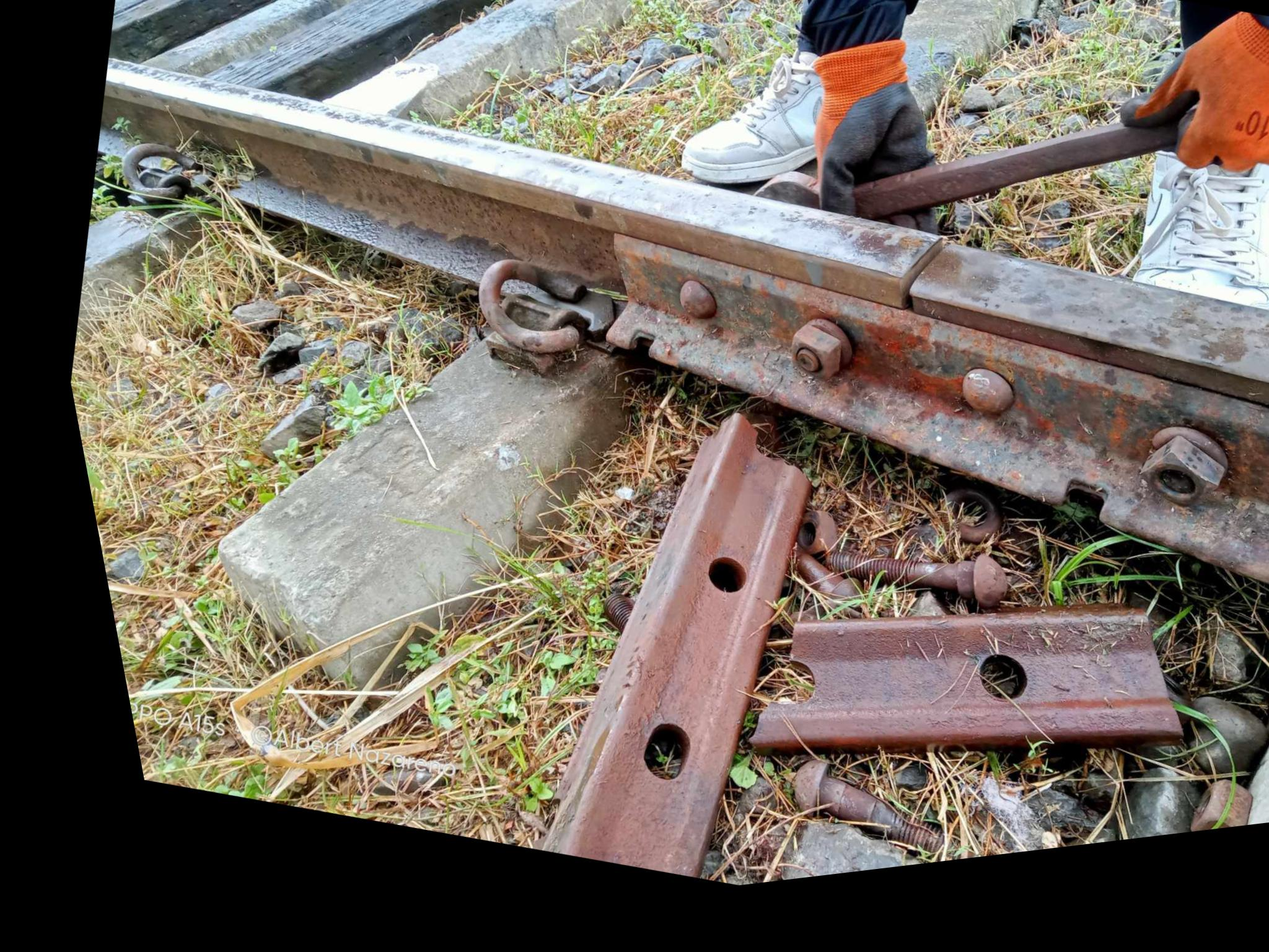person: (824, 209, 986, 368)
